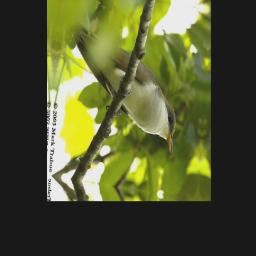Cuckoo: (61, 18, 183, 158)
